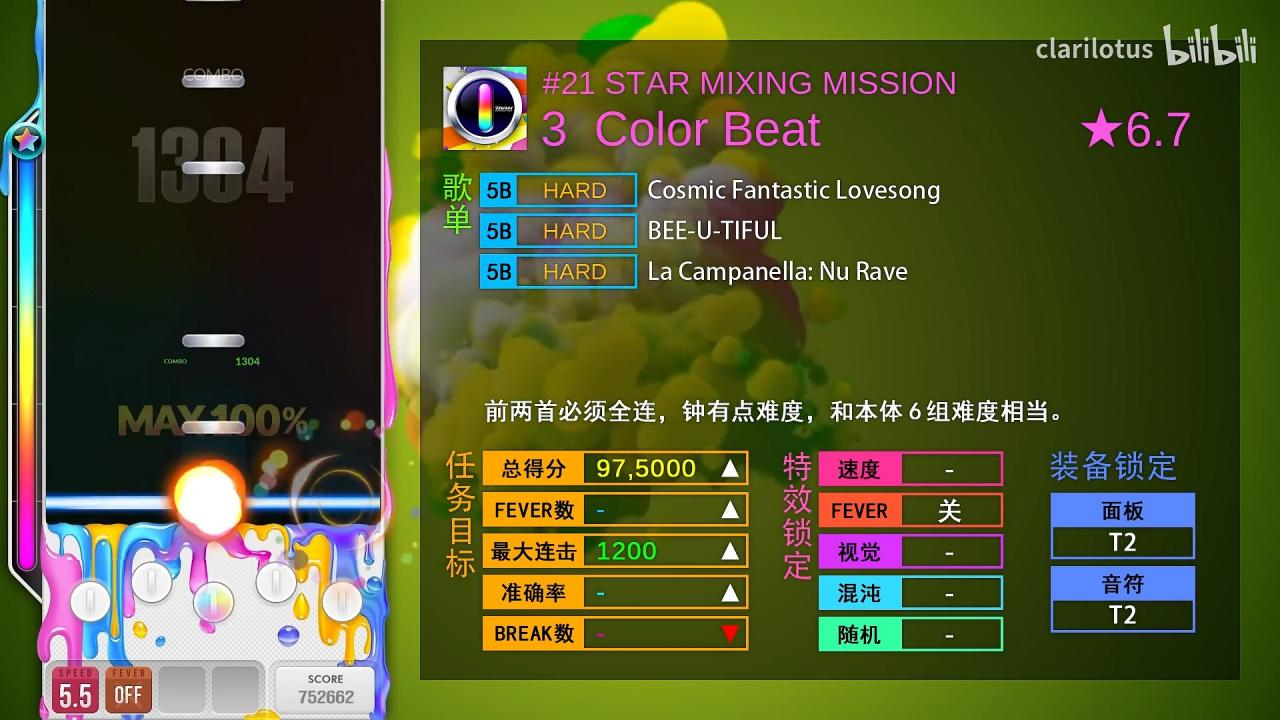note: (181, 420, 245, 434), (182, 162, 245, 175), (182, 76, 245, 88), (182, 335, 245, 347)
